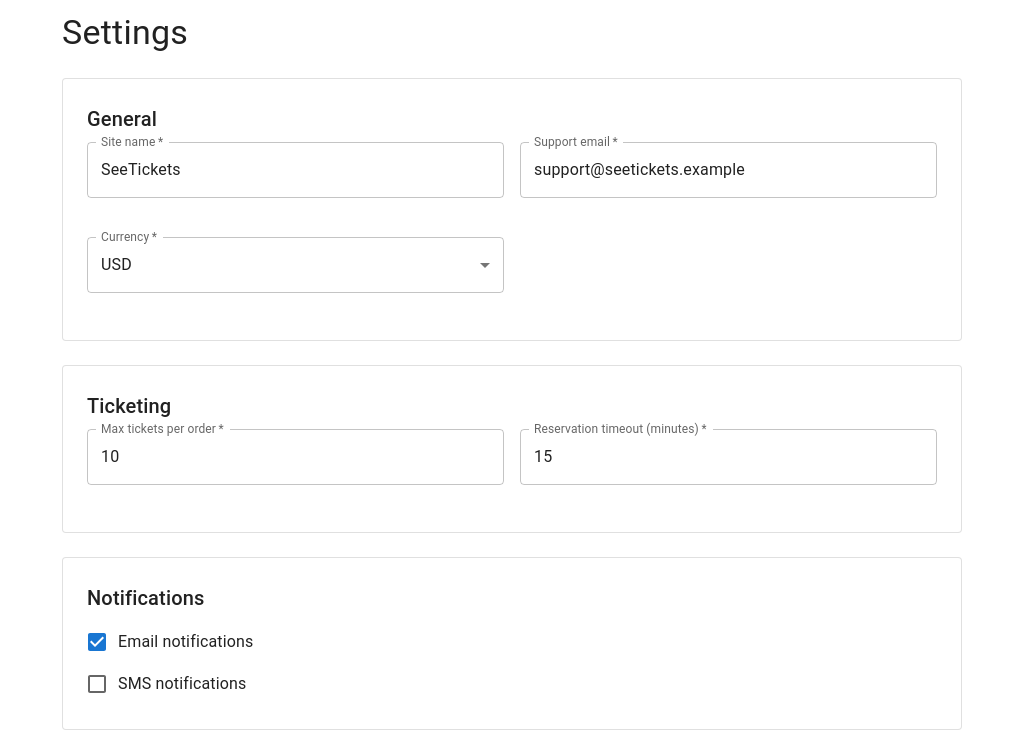
Test: SettingsPage › shows validation errors next to the fields and does not submit
Clear the field labelled "Site name *": point(296, 170) [87,142,504,198]
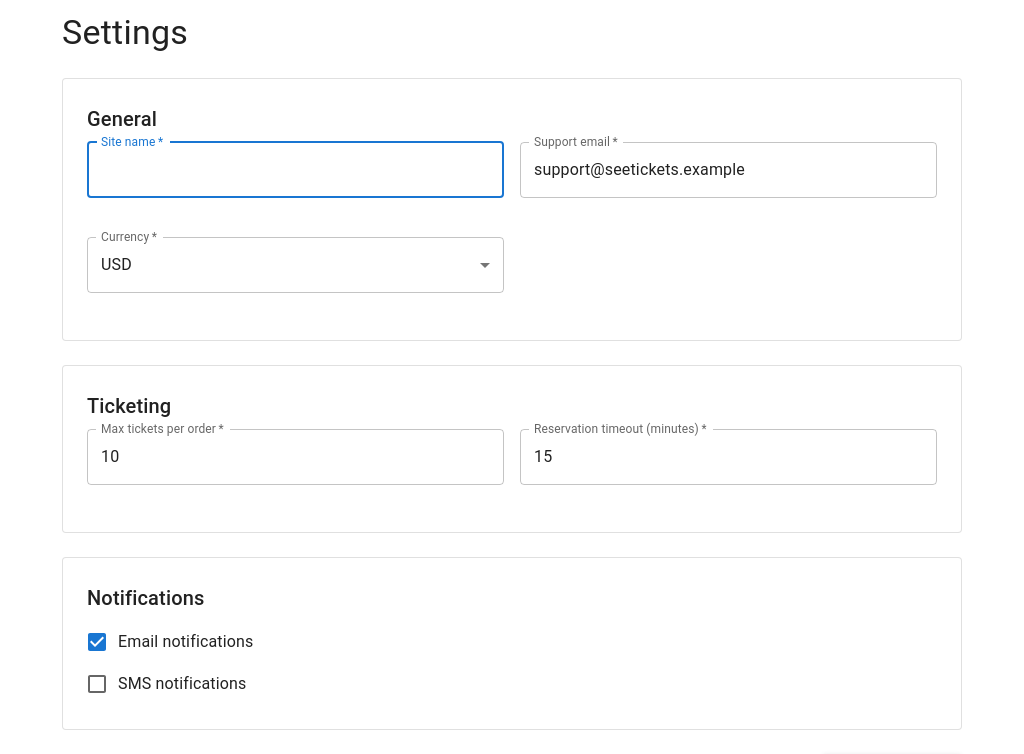
Replace the text in the number field labelled "Max tickets per order *" with "99": point(296, 457) [87,429,504,485]
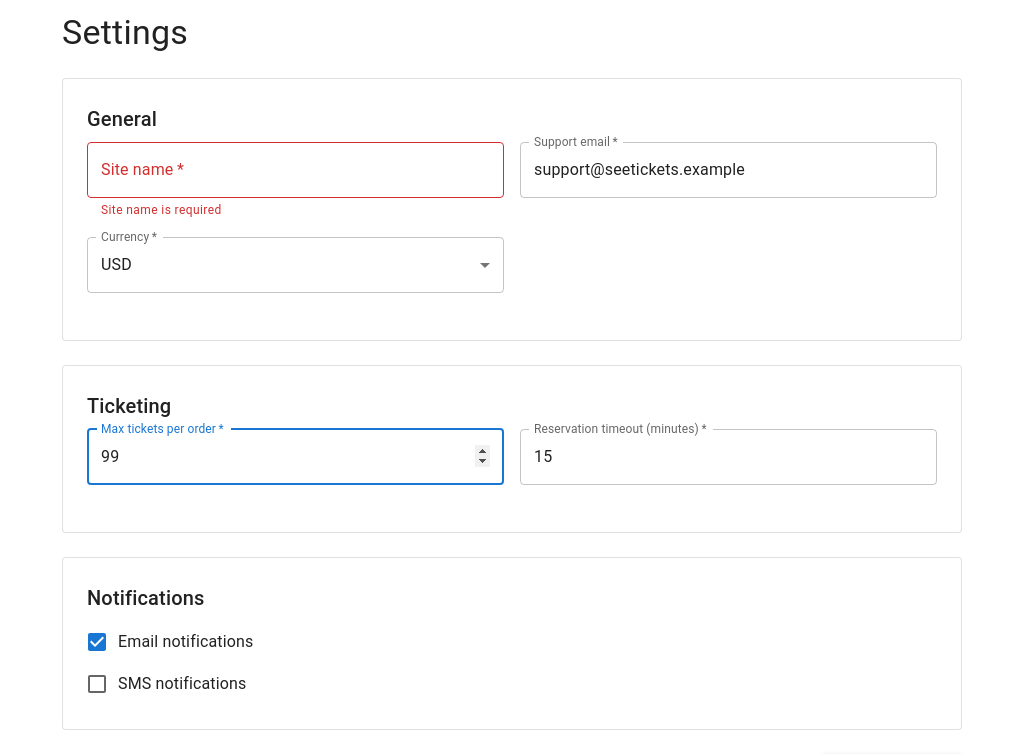
Press Tab
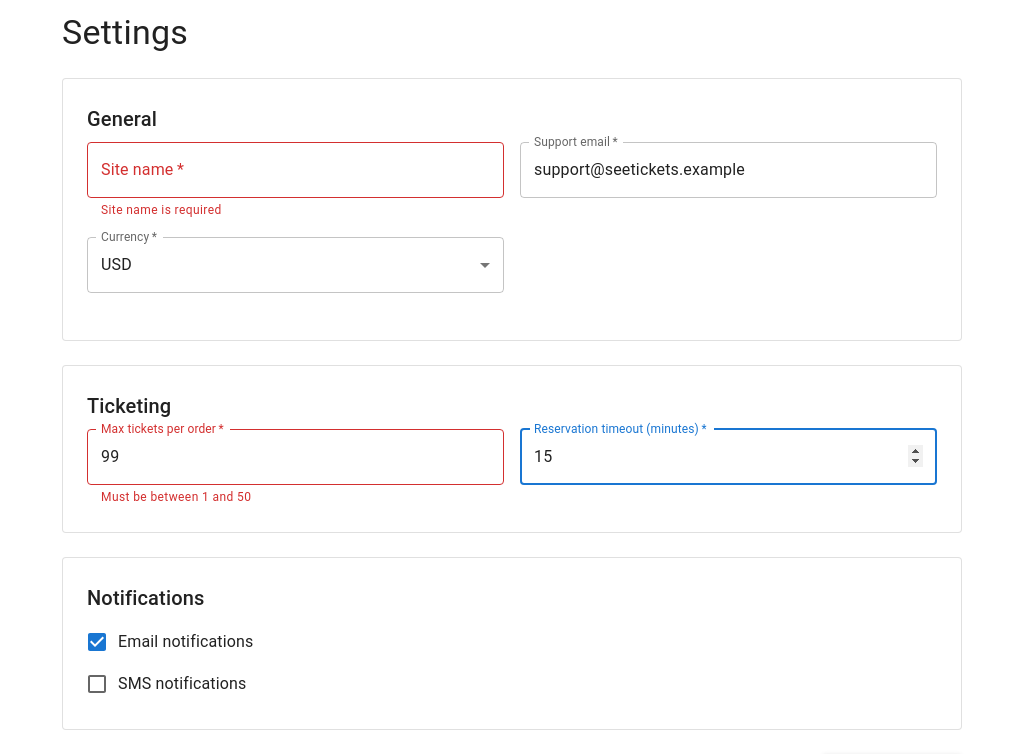
Check: the text "Site name is required" is shown, box [101,203,222,217]
Check: the text "Must be between 1 and 50" is shown, box [101,490,251,504]
